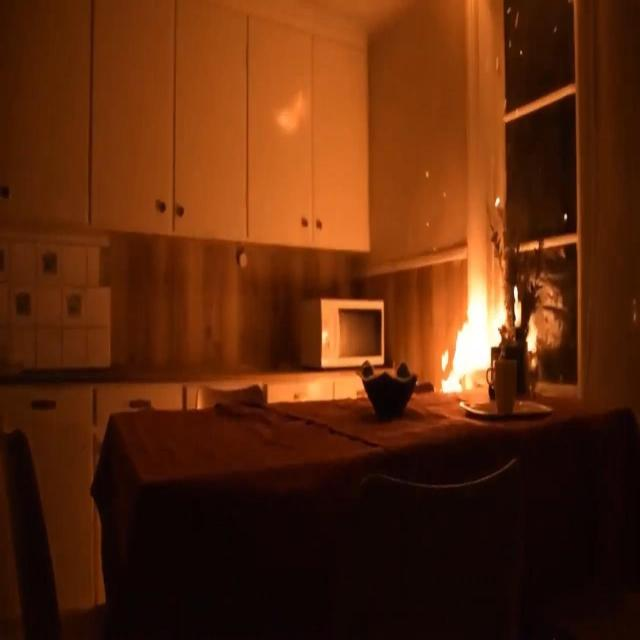fire: (430, 248, 550, 430)
